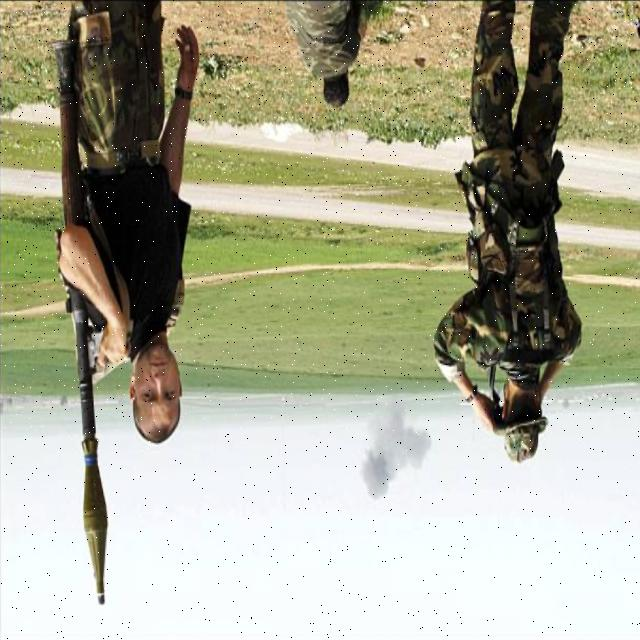bazooka: (52, 45, 118, 610)
